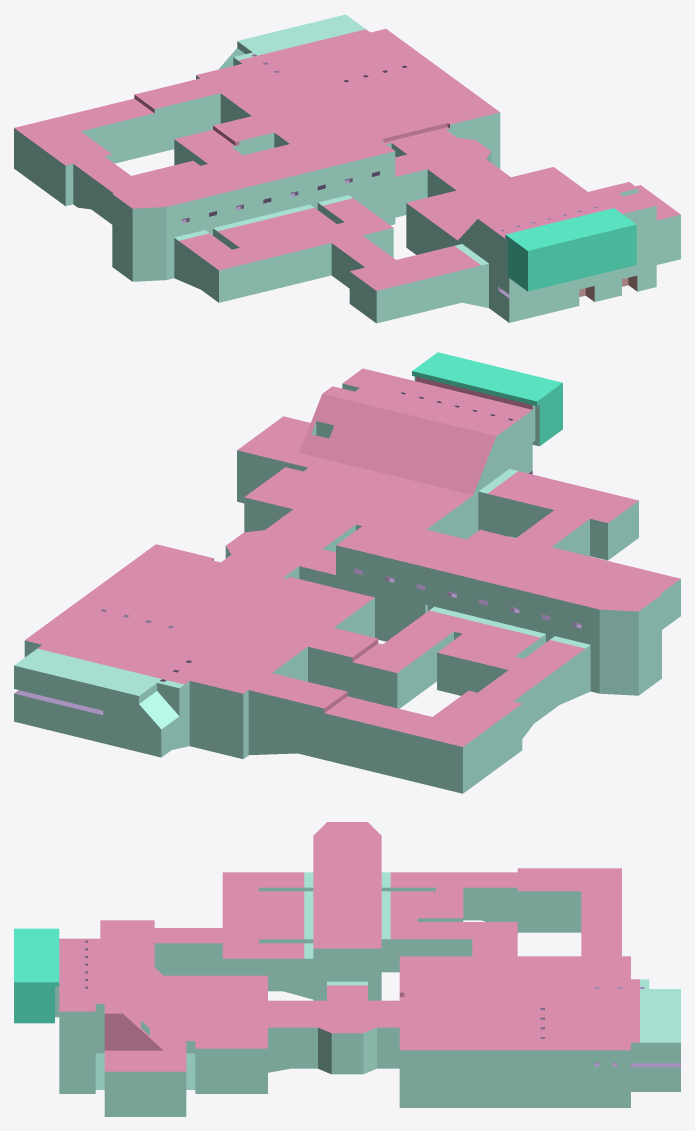
The model's file is stalwart.fbx.
3 renders of one model, top to bottom at view 1: azimuth 30°, elevation 25°; view 2: azimuth 150°, elevation 25°; view 3: azimuth 270°, elevation 25°, orthographic. The views are drawn at different scales.
Parts seen in each view (by area): view 1: bsp_model_0.001; view 2: bsp_model_0.001; view 3: bsp_model_0.001.
Boxes of the visible parts, <box> form: bsp_model_0.001: <box>14,14,680,323</box>; bsp_model_0.001: <box>14,352,680,793</box>; bsp_model_0.001: <box>14,822,680,1116</box>.
Size of the model in its own units: 5650 by 1200 by 7350.
